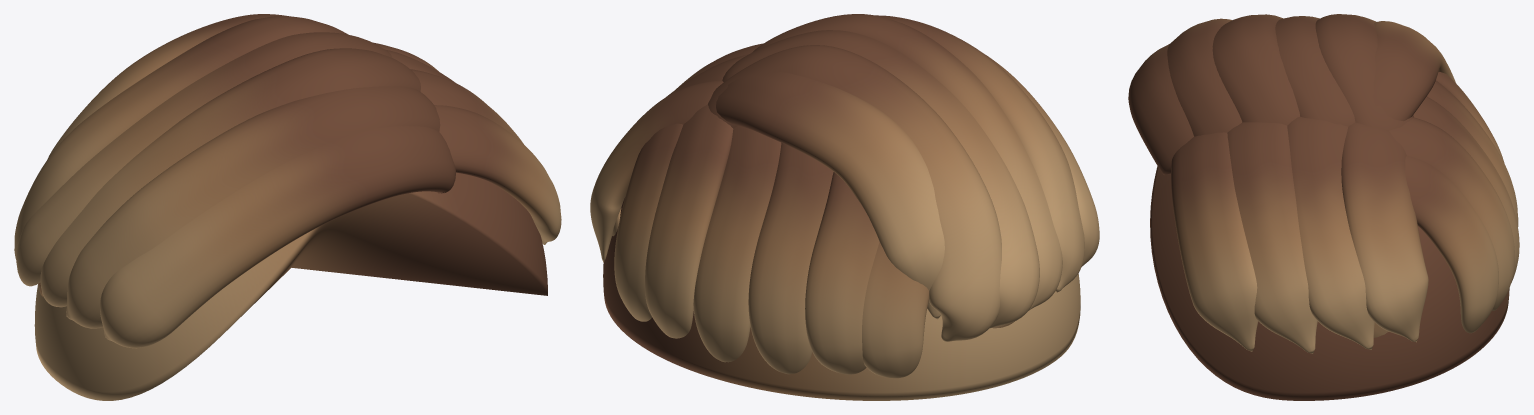
The model's file is Ombre-05e11d5b8a1c253-hair.glb.
3 renders of one model, left to right at view 1: azimuth 30°, elevation 25°; view 2: azimuth 150°, elevation 25°; view 3: azimuth 270°, elevation 25°, orthographic. The views are drawn at different scales.
Parts seen in each view (by area): view 1: Recessed roots, Hair / Side part main 0, Hair / Side part main 1, Hair / Side part main 2, Hair / Side part main 3, Hair / Side part main 4, Hair / Side part short 0, Hair / Side part crown, Hair / Side part short 1, Hair / Side part short 2; view 2: Hair / Side part crown, Recessed roots, Hair / Side part main 4, Hair / Side part nape 2, Hair / Side part nape 3, Hair / Side part main 3, Hair / Side part nape 4, Hair / Side part main 2, Hair / Side part nape 1, Hair / Side part main 1, Hair / Side part nape 0, Hair / Side part nape 5 (+4 smaller); view 3: Recessed roots, Hair / Side part short 3, Hair / Side part short 0, Hair / Side part short 1, Hair / Side part short 2, Hair / Side part nape 5, Hair / Side part main 2, Hair / Side part nape 4, Hair / Side part main 1, Hair / Side part crown, Hair / Side part main 4, Hair / Side part main 3 (+4 smaller).
Part boxes in pixels (left/top/right/bottom): Recessed roots: left=34, top=172, right=547, bottom=400; Hair / Side part main 0: left=100, top=126, right=455, bottom=348; Hair / Side part main 1: left=66, top=86, right=440, bottom=328; Hair / Side part main 2: left=40, top=48, right=420, bottom=307; Hair / Side part main 3: left=16, top=32, right=392, bottom=286; Hair / Side part main 4: left=14, top=16, right=347, bottom=259; Hair / Side part short 0: left=434, top=105, right=561, bottom=244; Hair / Side part crown: left=47, top=14, right=288, bottom=159; Hair / Side part short 1: left=411, top=69, right=523, bottom=143; Hair / Side part short 2: left=385, top=49, right=455, bottom=82; Hair / Side part crown: left=716, top=72, right=944, bottom=319; Recessed roots: left=603, top=197, right=1080, bottom=400; Hair / Side part main 4: left=708, top=45, right=1001, bottom=341; Hair / Side part nape 2: left=748, top=142, right=833, bottom=374; Hair / Side part nape 3: left=693, top=126, right=781, bottom=362; Hair / Side part main 3: left=722, top=30, right=1039, bottom=328; Hair / Side part nape 4: left=645, top=104, right=733, bottom=338; Hair / Side part main 2: left=752, top=14, right=1062, bottom=310; Hair / Side part nape 1: left=805, top=172, right=879, bottom=374; Hair / Side part main 1: left=875, top=15, right=1084, bottom=292; Hair / Side part nape 0: left=862, top=242, right=929, bottom=378; Hair / Side part nape 5: left=614, top=123, right=682, bottom=321; Recessed roots: left=1150, top=166, right=1509, bottom=400; Hair / Side part short 3: left=1341, top=122, right=1428, bottom=342; Hair / Side part short 0: left=1171, top=132, right=1258, bottom=351; Hair / Side part short 1: left=1227, top=122, right=1317, bottom=353; Hair / Side part short 2: left=1287, top=116, right=1374, bottom=349; Hair / Side part nape 5: left=1405, top=155, right=1498, bottom=333; Hair / Side part main 2: left=1212, top=14, right=1299, bottom=125; Hair / Side part nape 4: left=1389, top=117, right=1514, bottom=310; Hair / Side part main 1: left=1167, top=18, right=1242, bottom=136; Hair / Side part crown: left=1372, top=21, right=1455, bottom=121; Hair / Side part main 4: left=1315, top=14, right=1413, bottom=130; Hair / Side part main 3: left=1275, top=16, right=1355, bottom=126.
Size of the model in its own units: 0.9754 by 0.572 by 0.761.
Materials: 21 (21 with a texture image).
